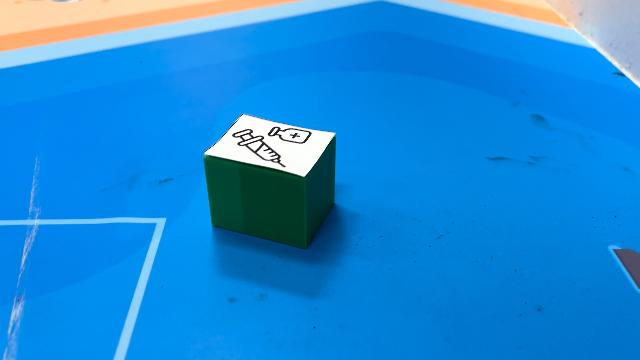syringe: (204, 115, 336, 248)
